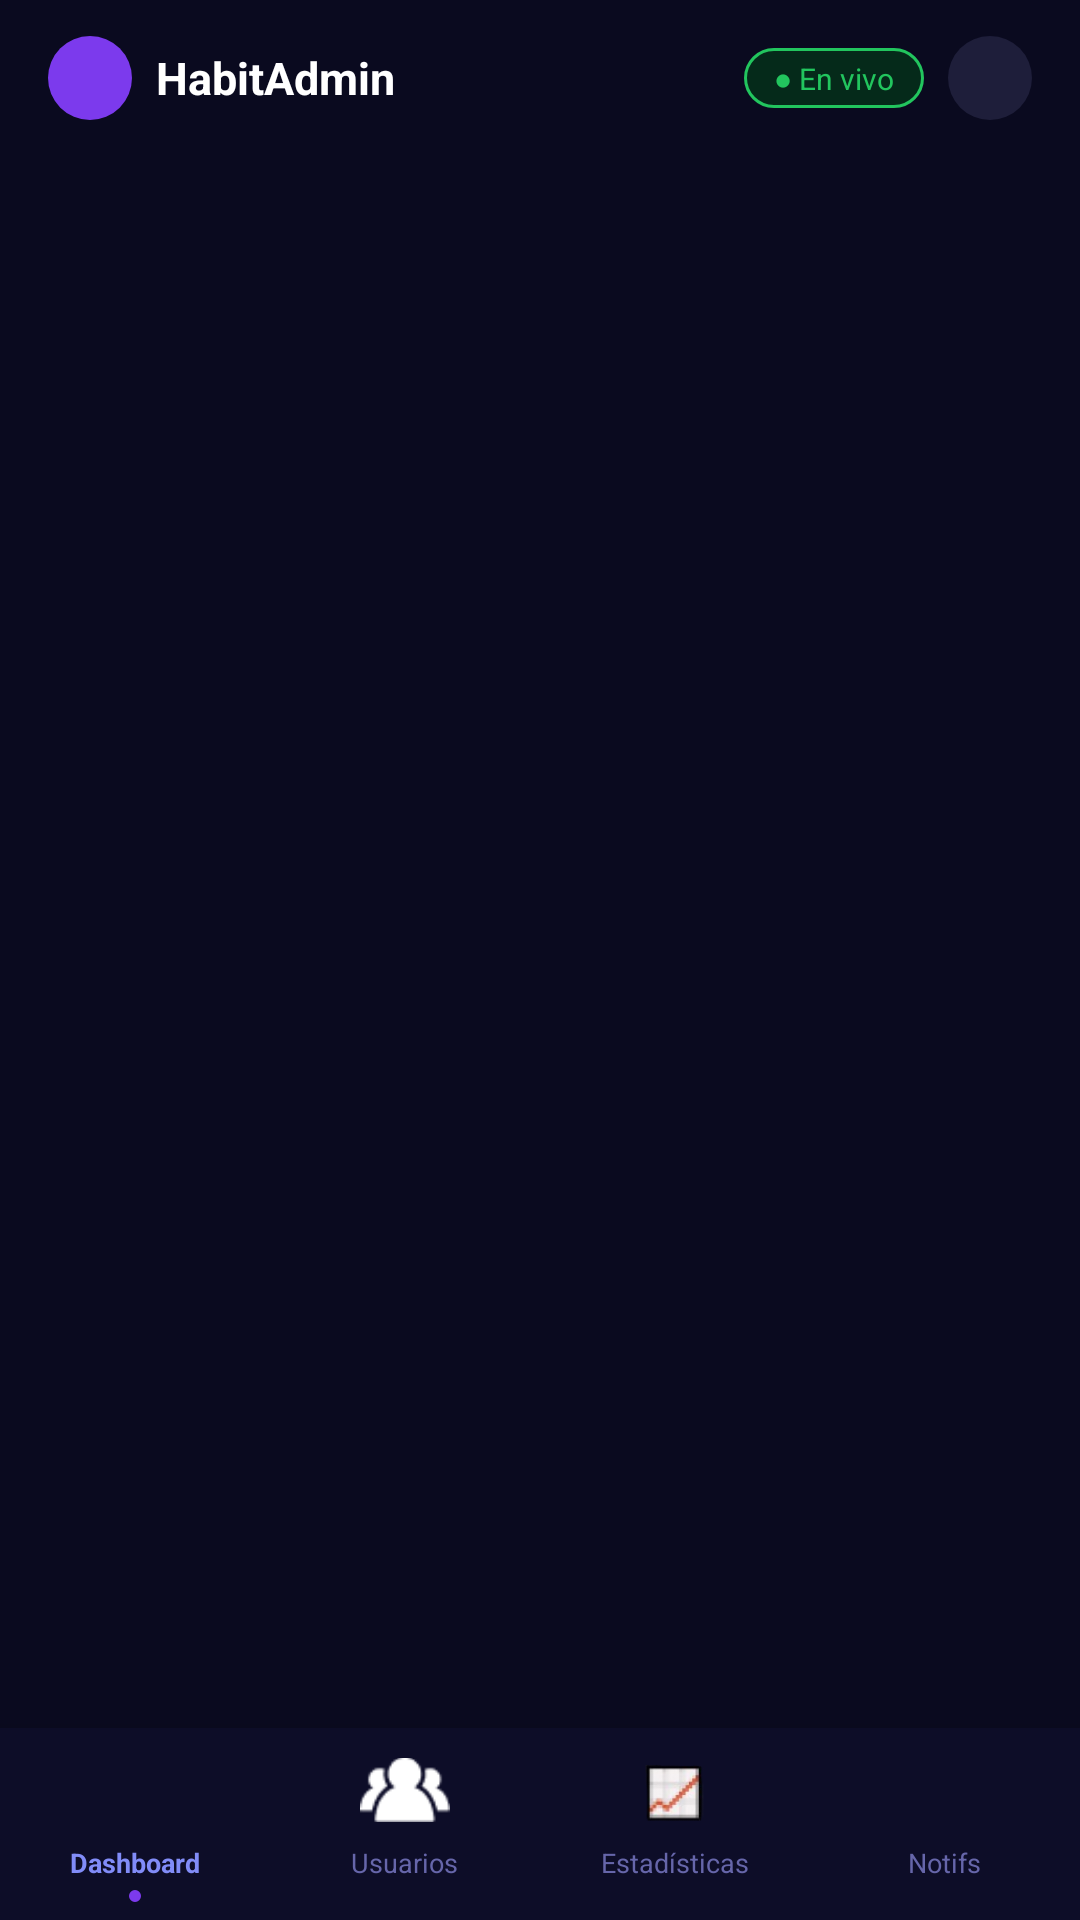

Icon click points for this 1080 x 1920 phone screenshot, format point (x, y):
tendencia: point (674, 1793)
